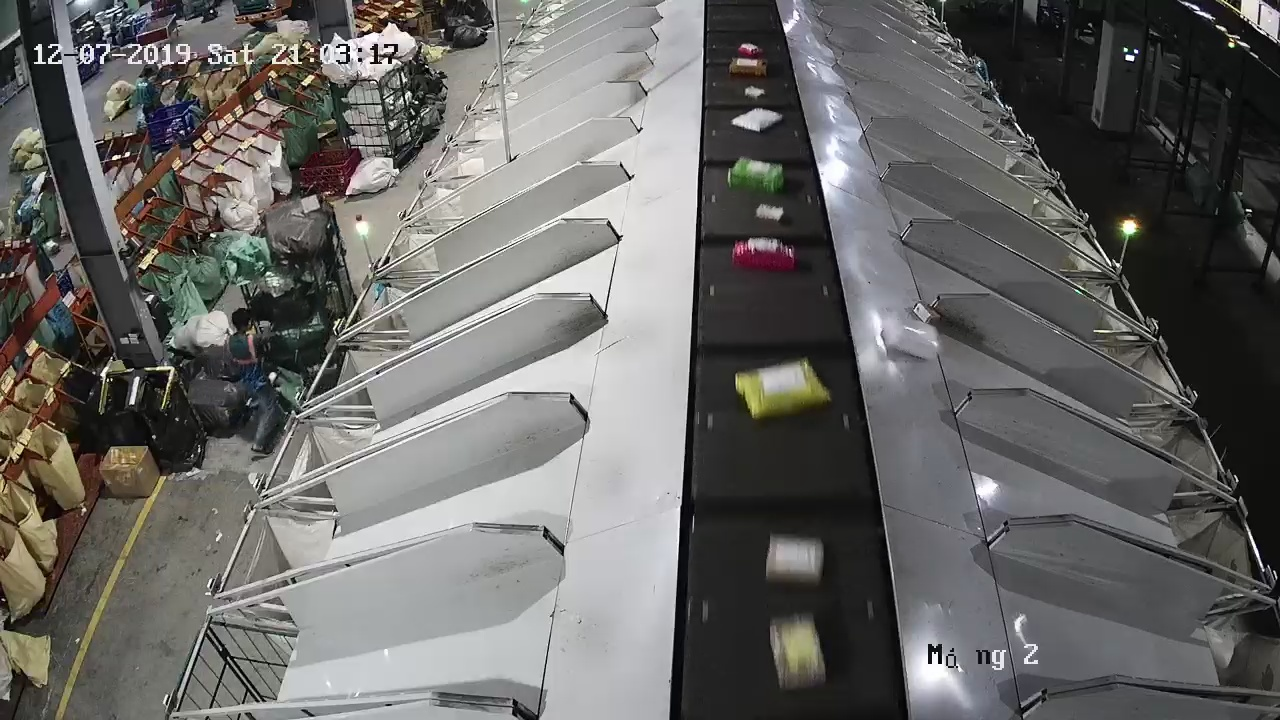parcel: (879, 315, 941, 363)
